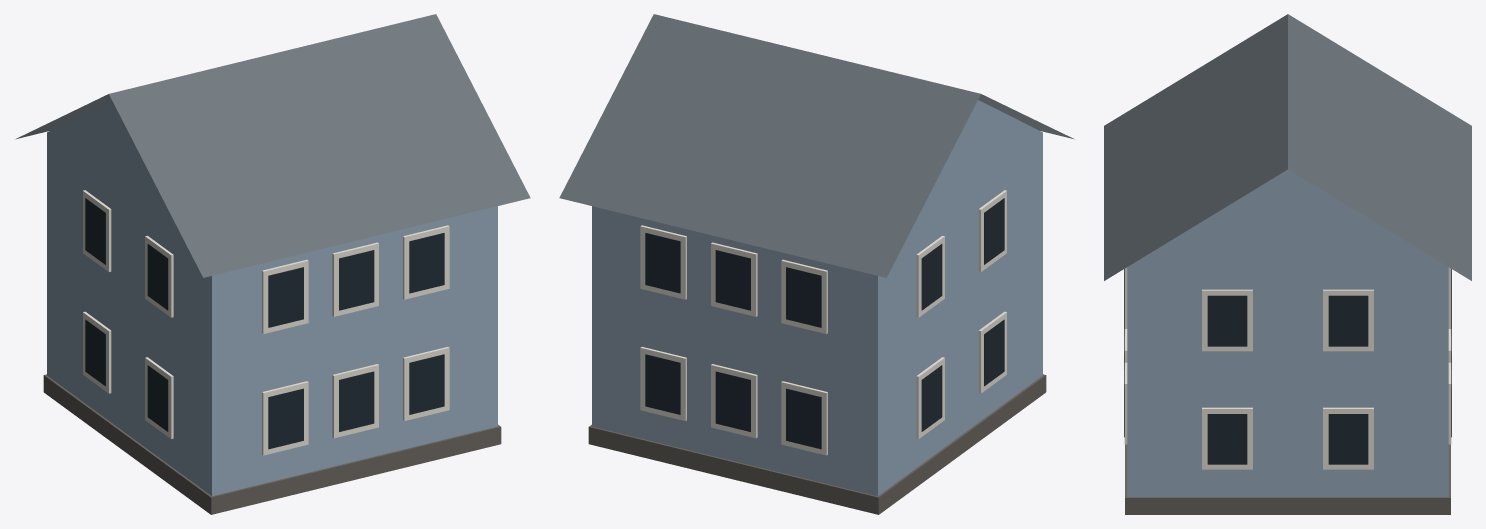
Rendered from two_storey_blue.glb.
3 views of the same model, side by side, from view 1: azimuth 30°, elevation 25°; view 2: azimuth 150°, elevation 25°; view 3: azimuth 270°, elevation 25° (orthographic). The views are drawn at different scales.
Parts seen in each view (by area): view 1: two_storey_blue; view 2: two_storey_blue; view 3: two_storey_blue.
Part boxes in pixels (x1,y1,x2,y2): two_storey_blue: (15,14,530,514); two_storey_blue: (559,14,1074,514); two_storey_blue: (1104,14,1471,514).
Bounding box in the file's own units: 7.9 × 8.4 × 7.9.
